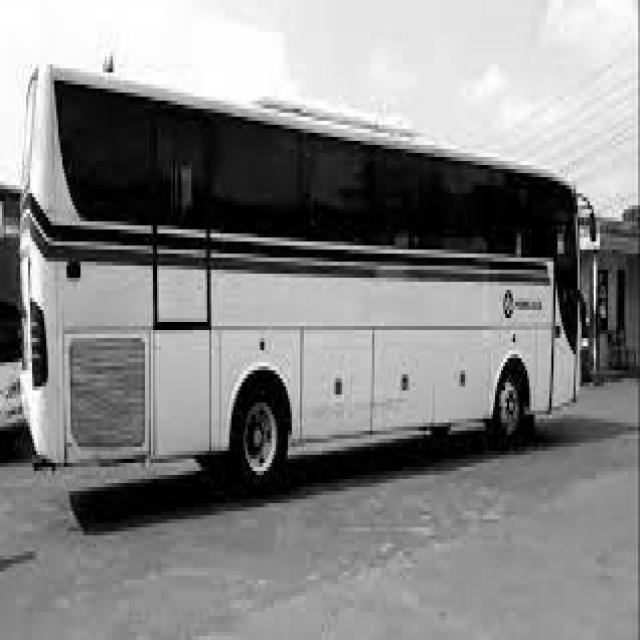Bus: (20, 64, 580, 491)
